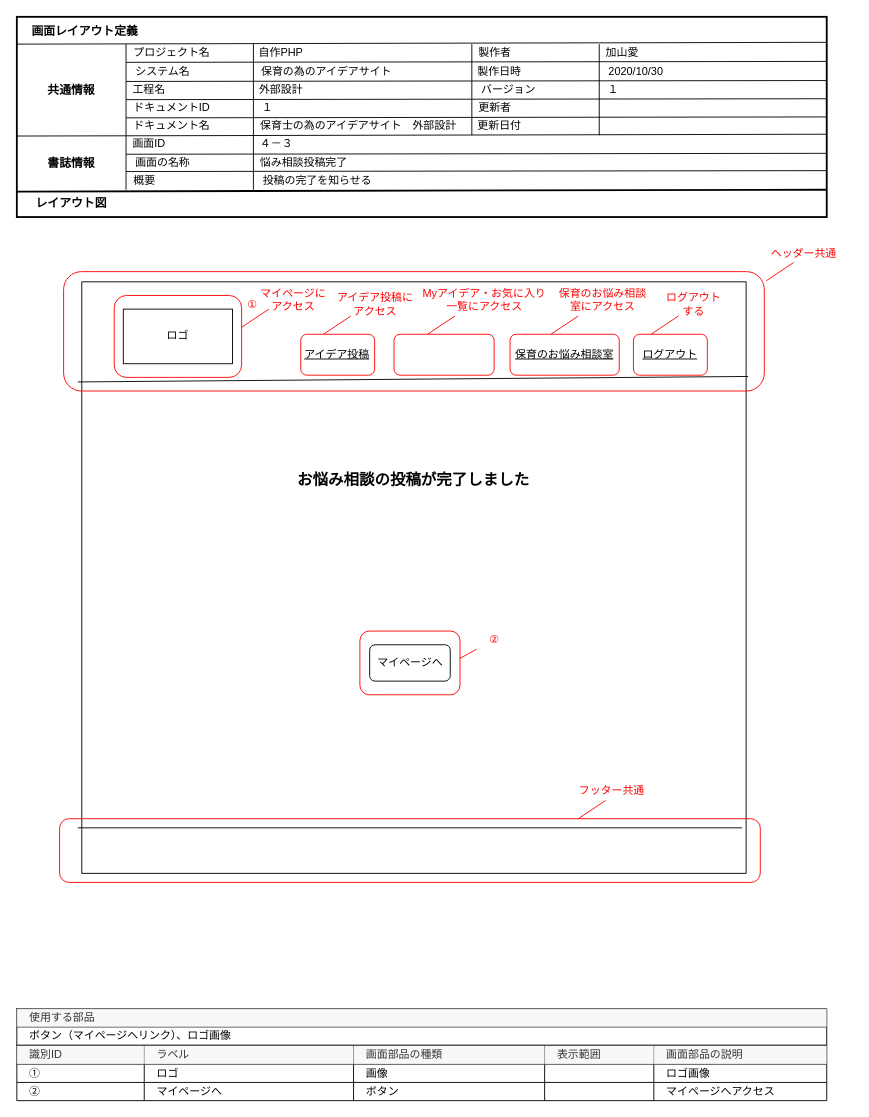
Some shapes in this 869 by 1117 pixel diagram are drawn without their labels. The shapes that lost their labels are listed below. From the top down, each one's centre as x and y in pixels, then its label:
pixel 443 354: Mｙアイデア・お気に入り一覧
pixel 409 850: コピーライト
